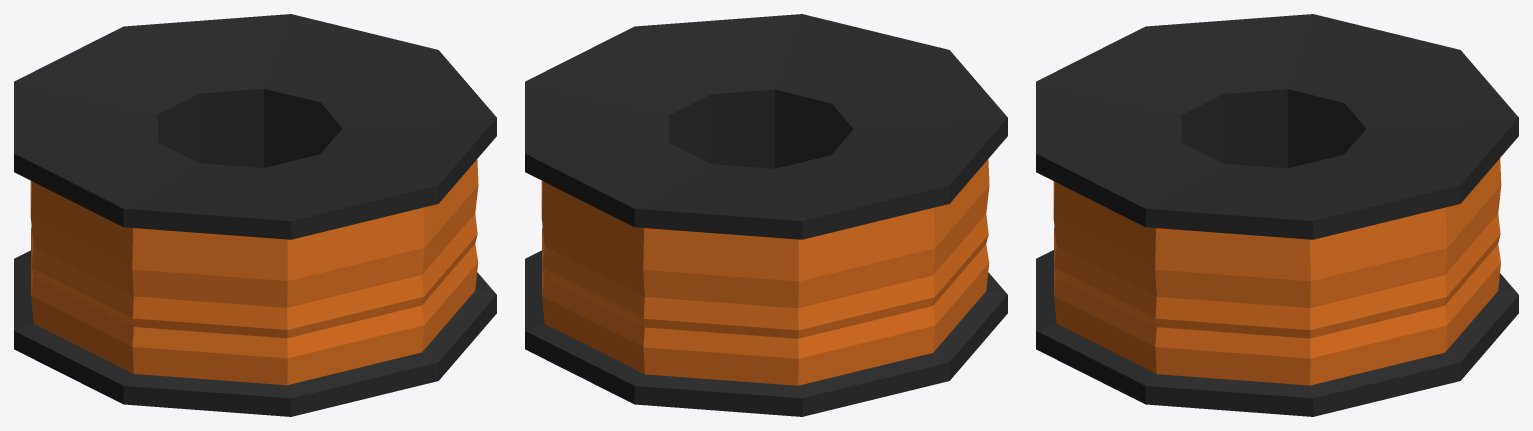
The model's file is resources_conductive-wire.fbx.
3 views of the same model, side by side, from view 1: azimuth 30°, elevation 25°; view 2: azimuth 150°, elevation 25°; view 3: azimuth 270°, elevation 25° (orthographic).
Visible parts, largest first — view 1: resources_conductive_wire; view 2: resources_conductive_wire; view 3: resources_conductive_wire.
Part boxes in pixels (x1,y1,x2,y2): resources_conductive_wire: [14, 14, 496, 416]; resources_conductive_wire: [525, 14, 1007, 416]; resources_conductive_wire: [1036, 14, 1518, 416].
Size of the model in its own units: 200 by 88.12 by 197.
